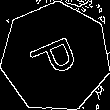P_NE: (25, 31, 86, 84)
